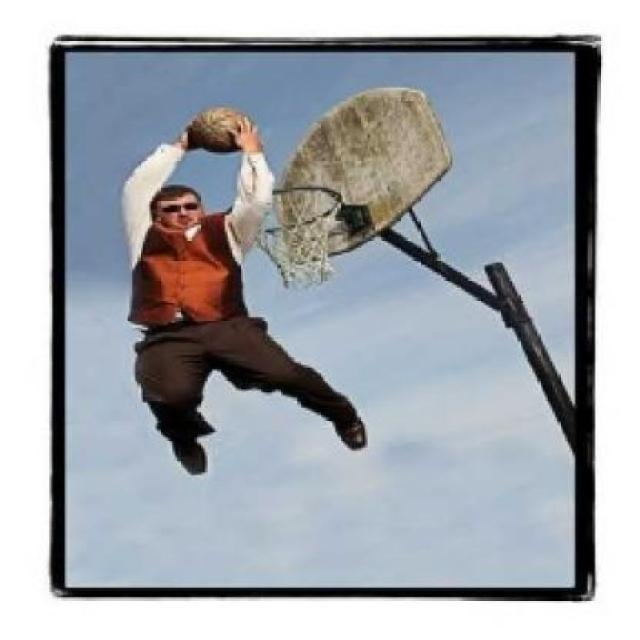basketball: (193, 101, 255, 160)
rim: (243, 183, 343, 289)
